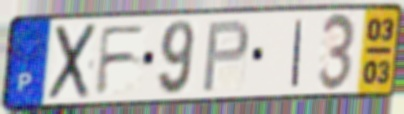3: (316, 9, 358, 94)
9: (154, 18, 200, 97)
F: (93, 22, 149, 98)
I: (288, 18, 305, 89)
P: (199, 18, 252, 94)
X: (45, 20, 100, 102)
